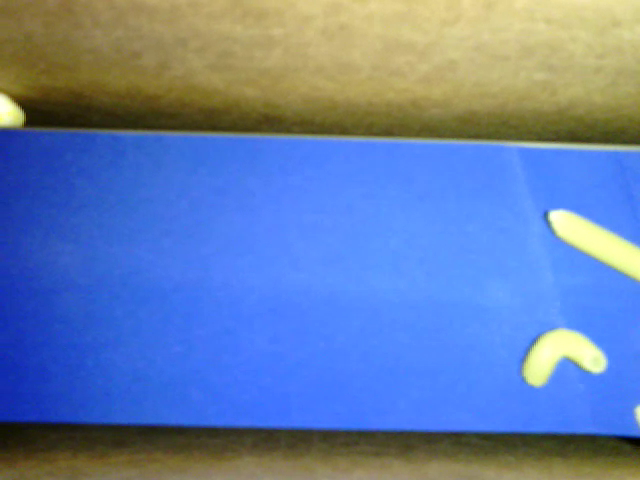elbow: (521, 327, 607, 388)
penne: (547, 208, 639, 280)
